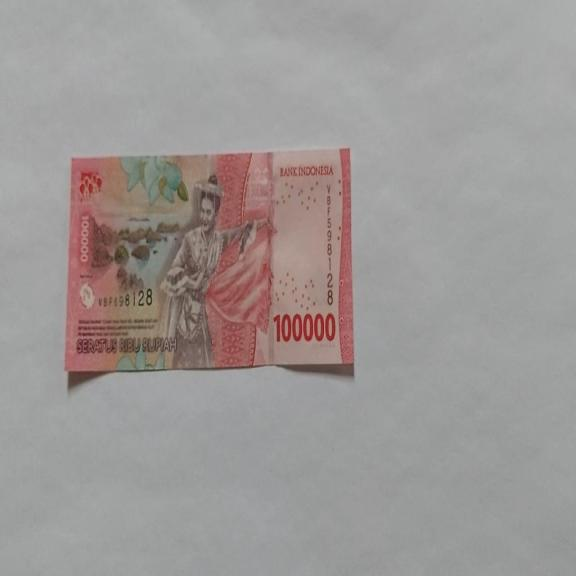Kertas: (64, 147, 354, 377), (272, 310, 337, 344)
